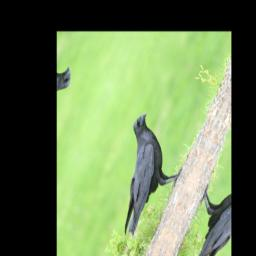Crow: (93, 108, 195, 250)
